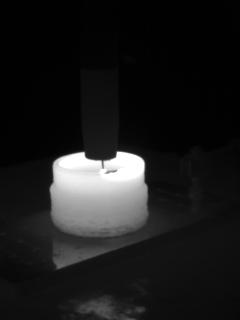tip_wire_left: (85, 156, 105, 173)
tip_wire_right: (101, 155, 117, 173)
